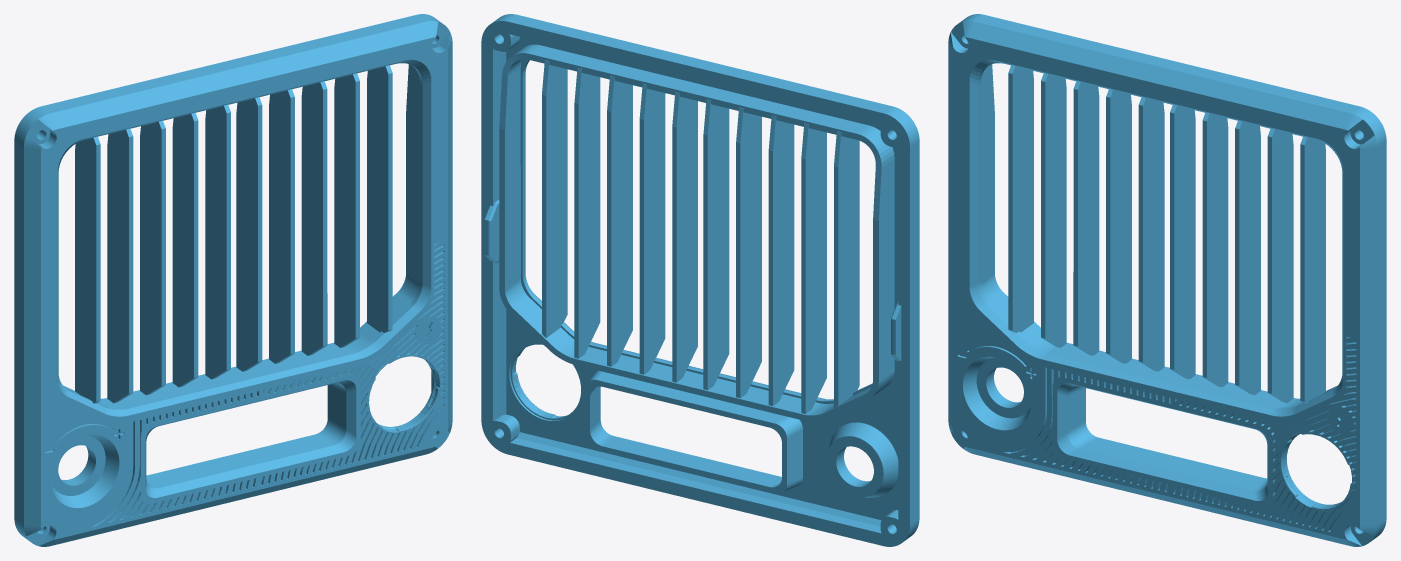
File: Back_Color.glb
3 renders of one model, left to right at view 1: azimuth 30°, elevation 25°; view 2: azimuth 150°, elevation 25°; view 3: azimuth 330°, elevation 25°, orthographic.
Visible parts, largest first — view 1: Soild.Back; view 2: Soild.Back; view 3: Soild.Back.
Boxes of the visible parts, left/top/right/bottom form: Soild.Back: left=14, top=14, right=452, bottom=546; Soild.Back: left=481, top=14, right=919, bottom=546; Soild.Back: left=948, top=14, right=1386, bottom=546.
Size of the model in its own units: 148 by 143 by 13.42.
